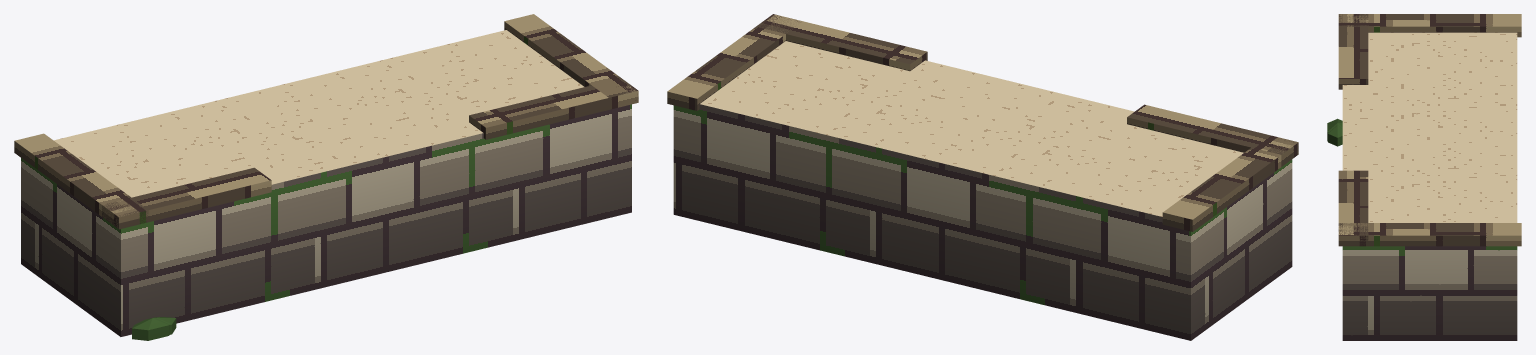
File: scene_plat_o2.glb
3 views of the same model, side by side, from view 1: azimuth 30°, elevation 25°; view 2: azimuth 150°, elevation 25°; view 3: azimuth 270°, elevation 25° (orthographic). The views are drawn at different scales.
Visible parts, largest first — view 1: scene_plat_o2; view 2: scene_plat_o2; view 3: scene_plat_o2.
Part boxes in pixels (x1=…): scene_plat_o2: x1=14, y1=14, x2=638, y2=340; scene_plat_o2: x1=667, y1=14, x2=1298, y2=340; scene_plat_o2: x1=1327, y1=14, x2=1521, y2=340.
Size of the model in its own units: 6.3 by 1.5 by 2.33.
3 materials, 2 textured.
